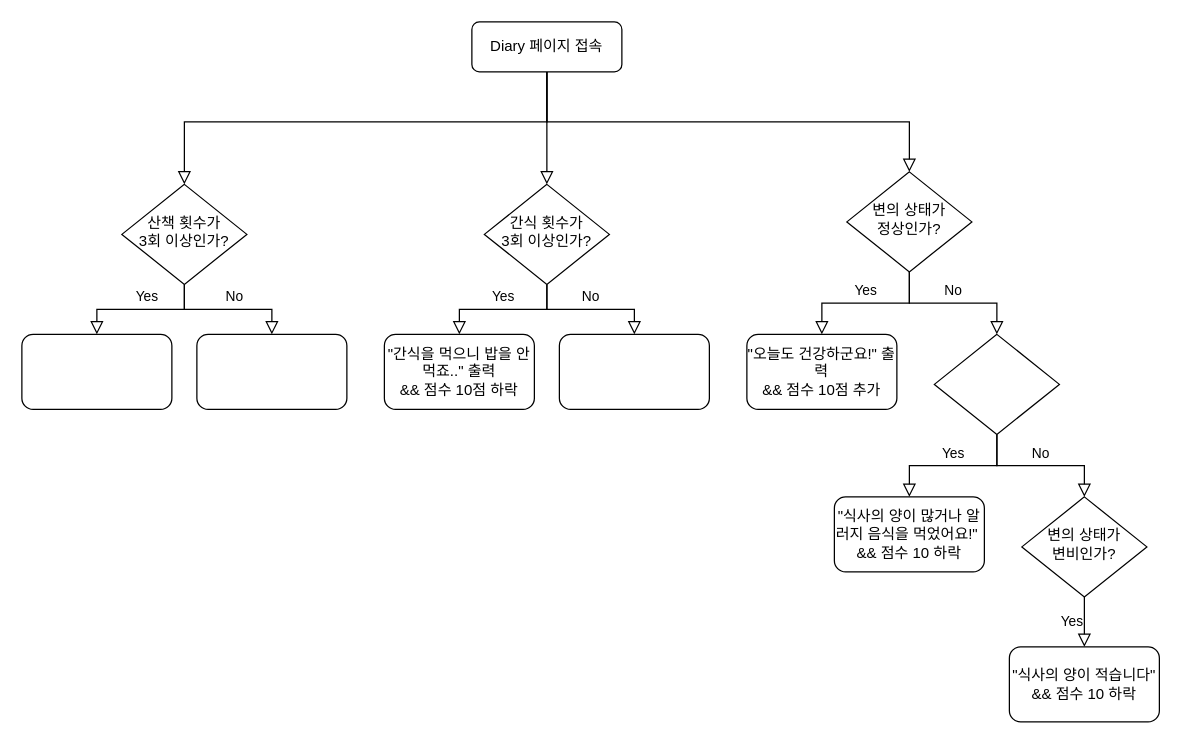
Image size: 1181x744. Some labels were removed from this diagram. The shapes that lost their labels are listed below. From the top down, each one's centre as x and y in pixels, then its label:
point (96, 371): "바람직한 반려인!" 출력 && 점수 10점 추가
point (271, 371): "강아지에게 산책은 필수란 것.. 아시죠?" 출력 && 점수 10점 하락
point (633, 371): "간식은 적당히! 아주 잘했어요" 출력 && 점수 10 추가
point (996, 383): 변의 상태가 설사인가?
